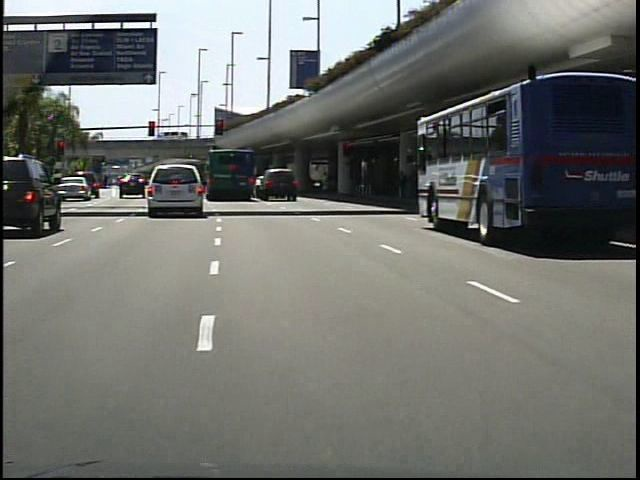person: (320, 164, 340, 201)
